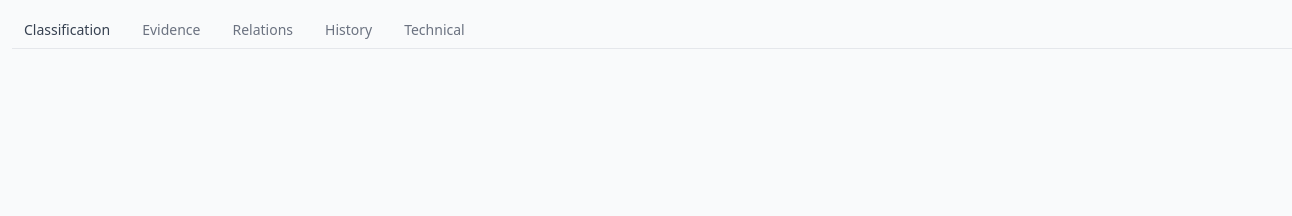
Test: AccountSubviewTabs (relations タブの追加取得) › Load more が失敗しても既存の items は表示し続ける
Step 1. Click the tab "Relations" → coordinates (263, 30), box [220,12,305,48]
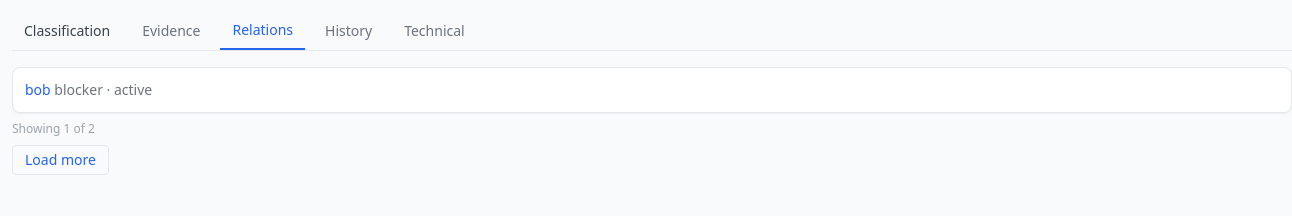
Result: the link "bob" is shown at [25,80,51,99]
Step 2. Click the button "Load more" → coordinates (60, 160), box [12,145,109,175]
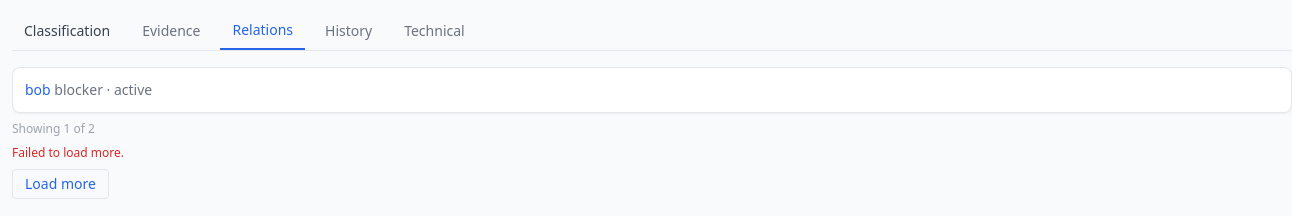
Result: the link "bob" is shown at [25,80,51,99]
Result: the text "Failed to load more." is shown at [12,144,124,161]
